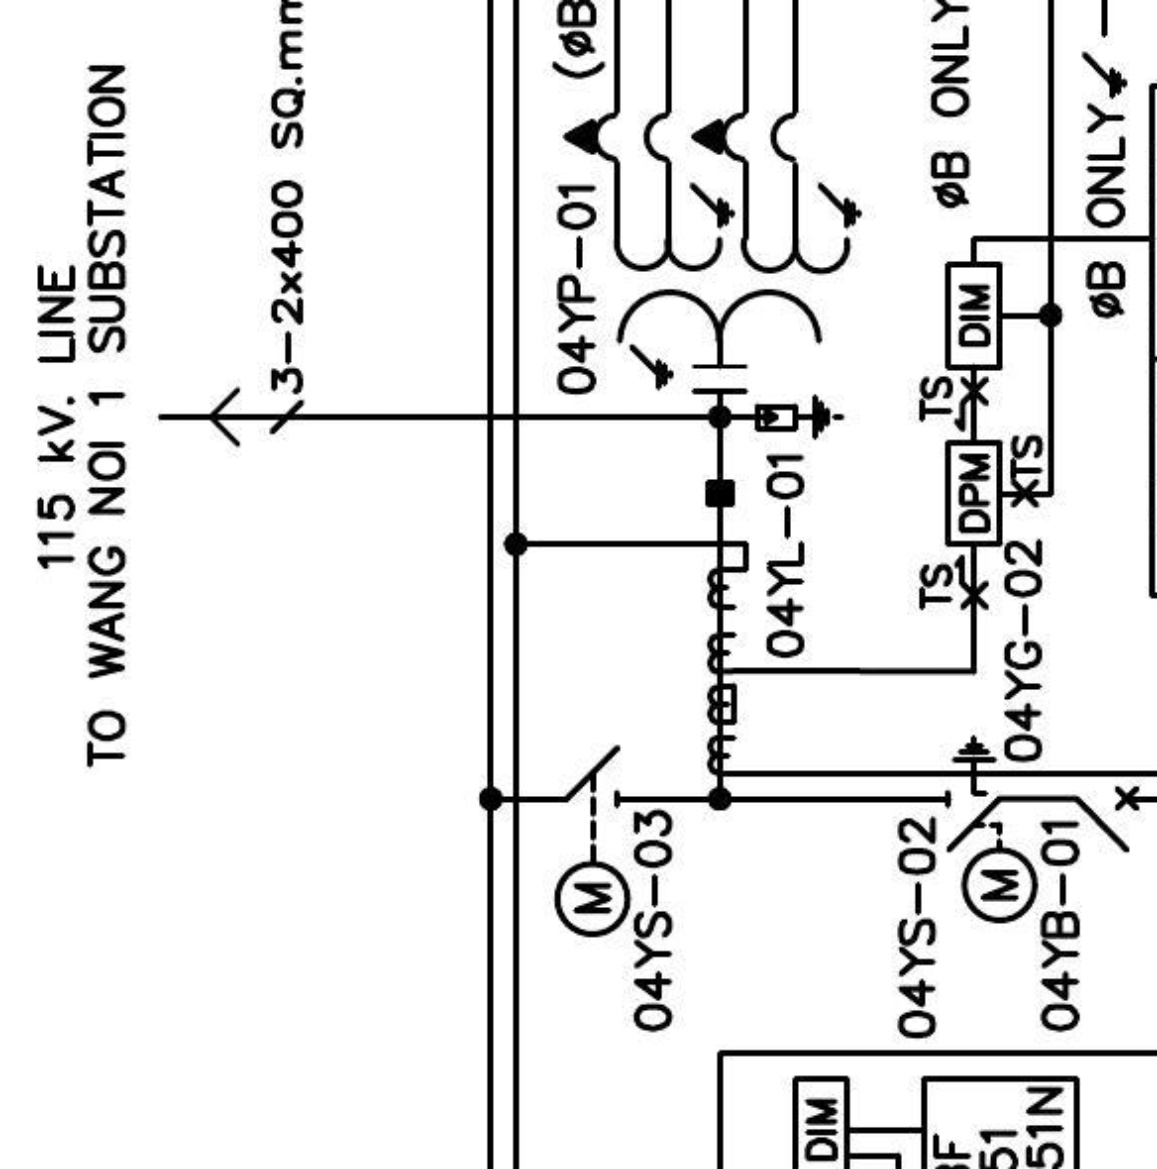115_1way_ds_w_motor: (552, 743, 633, 939)
115_3ways_ds_w_motor: (944, 733, 1040, 925)
115_breaker: (1074, 785, 1140, 853)
115_cvt_1p: (562, 107, 865, 395)
115_la: (754, 393, 845, 441)
DIM: (945, 262, 1003, 370)
DPM: (945, 440, 1003, 548)
